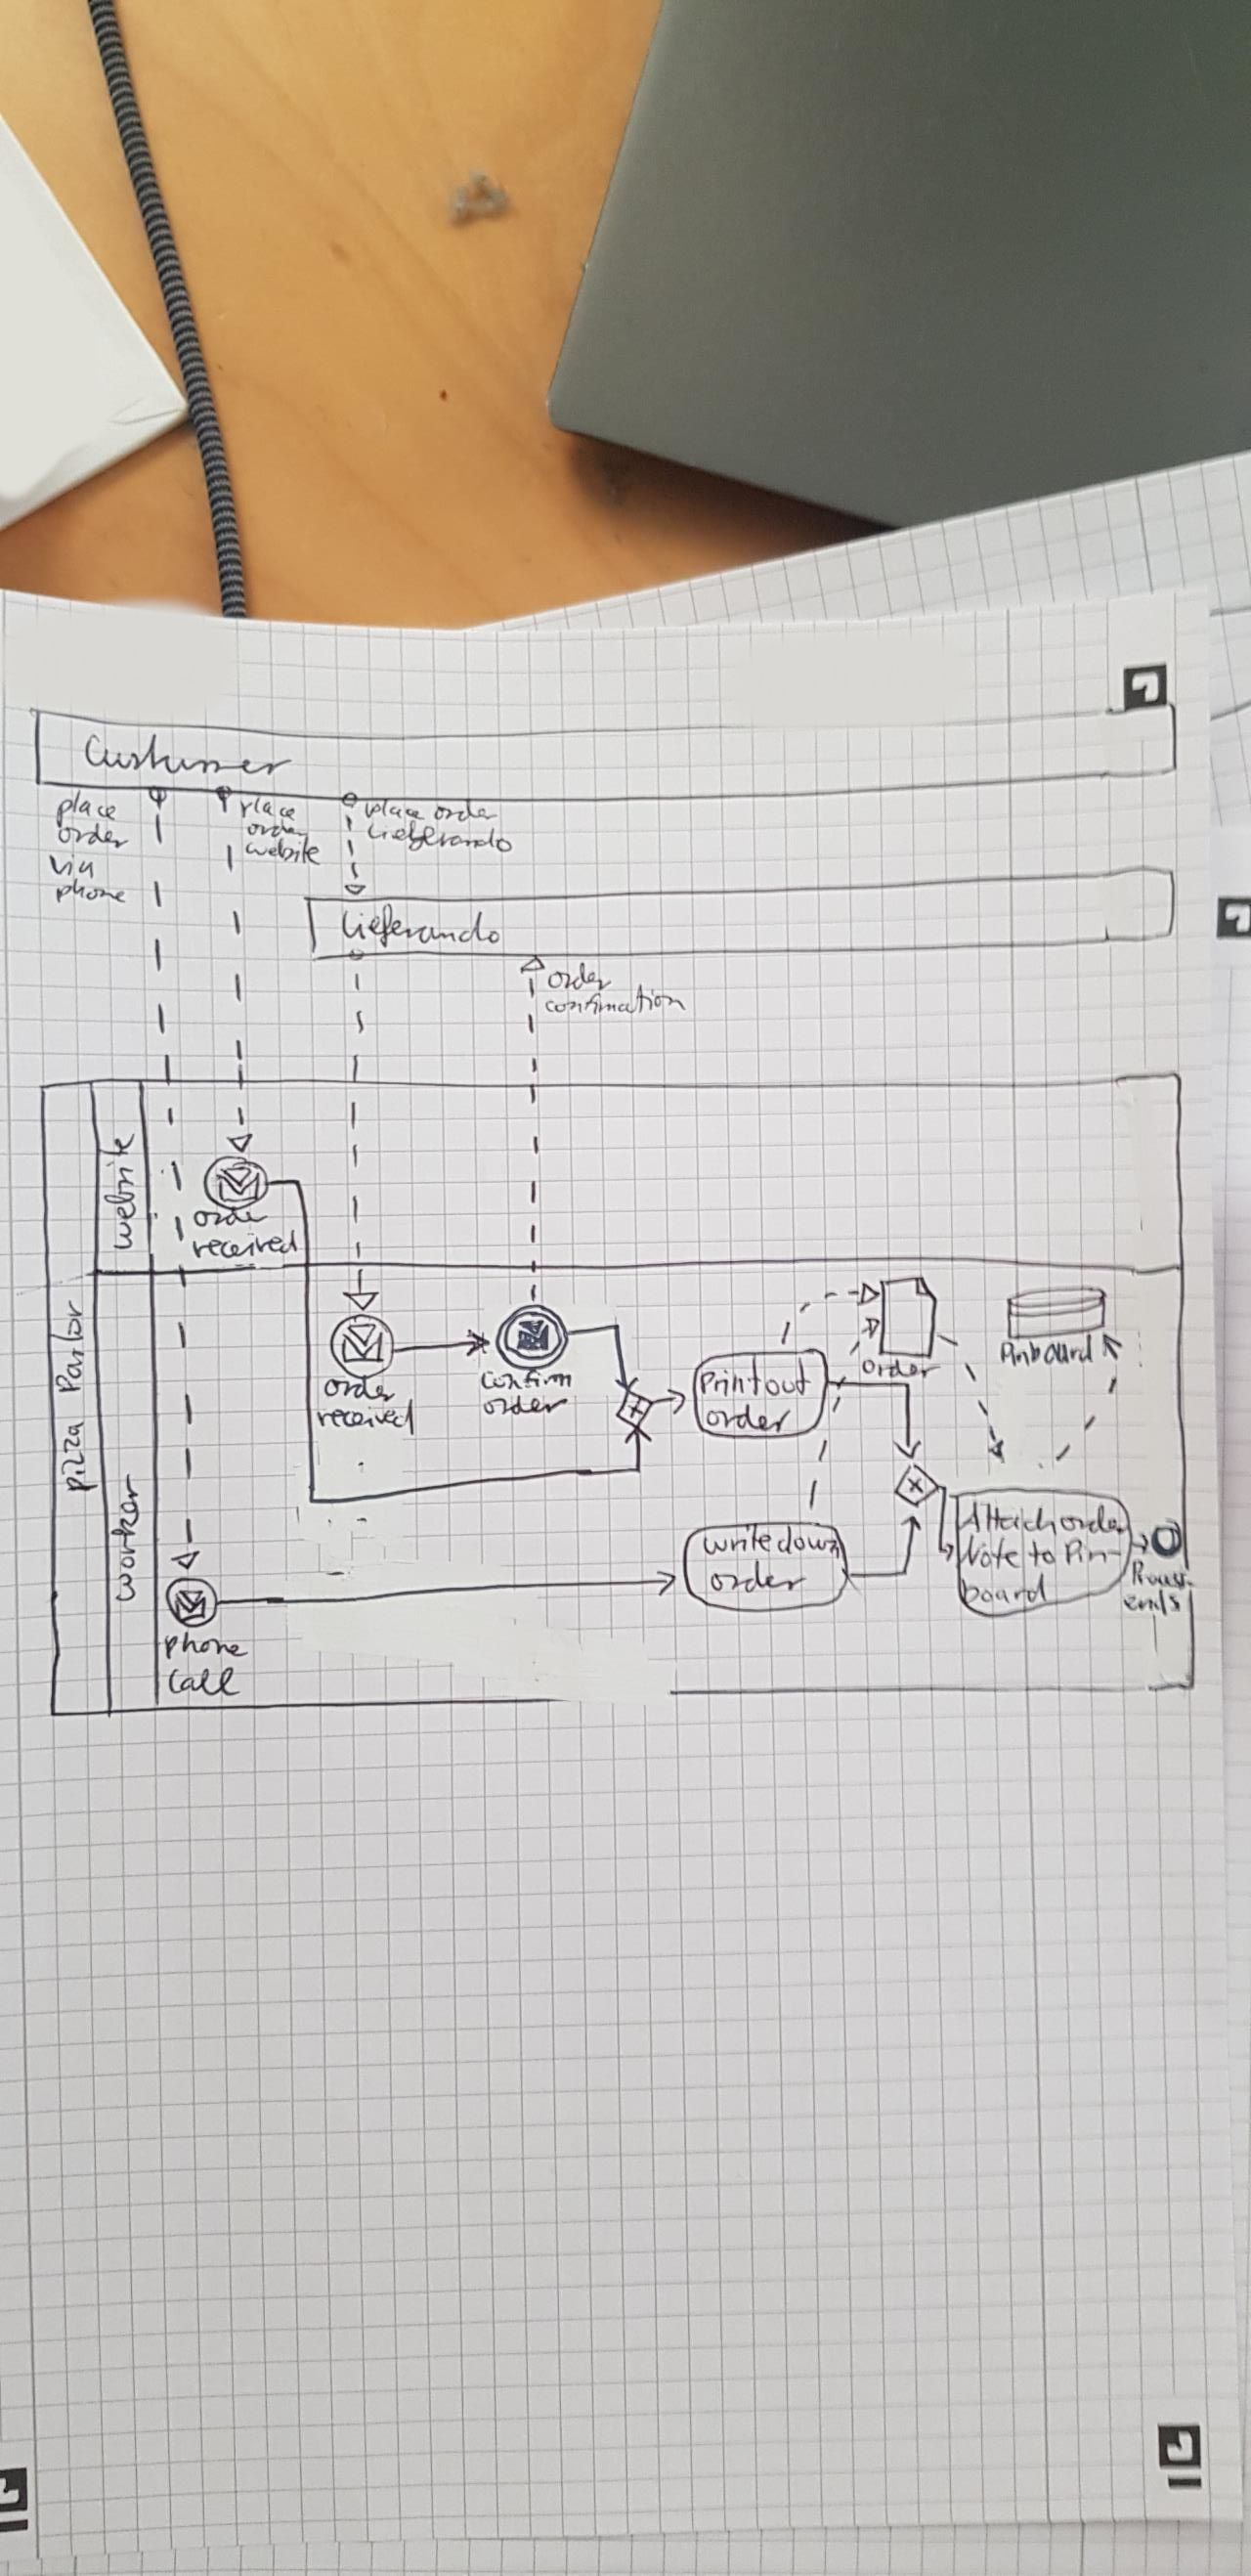Attach: (961, 1499, 1060, 1540)
Call: (163, 1666, 239, 1698)
Customer: (82, 732, 296, 778)
Lieferando: (336, 903, 501, 946), (364, 822, 516, 855)
Note: (961, 1537, 1020, 1570)
Parlor: (55, 1301, 87, 1395)
Phone: (160, 1632, 249, 1661)
Pin-: (1061, 1536, 1127, 1568)
Pinboard: (998, 1335, 1098, 1369)
Print: (698, 1361, 767, 1399)
Process: (1126, 1556, 1196, 1592)
board: (960, 1573, 1052, 1607)
confirm: (477, 1367, 577, 1390)
confirmation: (542, 984, 689, 1018)
down: (775, 1528, 842, 1557)
ends: (1117, 1588, 1184, 1616)
order: (707, 1560, 811, 1594), (703, 1404, 795, 1435), (1058, 1501, 1131, 1535), (53, 821, 134, 851), (861, 1352, 944, 1380), (543, 965, 617, 996), (322, 1376, 400, 1406), (191, 1204, 270, 1230), (483, 1394, 567, 1418), (430, 800, 500, 826), (243, 818, 314, 839)
out: (764, 1360, 815, 1399)
phone: (51, 880, 132, 907)
pizza: (60, 1417, 101, 1494)
place: (52, 789, 123, 826), (364, 797, 424, 824), (237, 798, 300, 824)
received: (189, 1228, 300, 1260), (313, 1401, 418, 1430)
to: (1025, 1537, 1058, 1570)
via: (46, 850, 101, 877)
website: (101, 1136, 143, 1253), (242, 840, 324, 865)
worker: (108, 1473, 140, 1603)
write: (700, 1522, 775, 1555)
